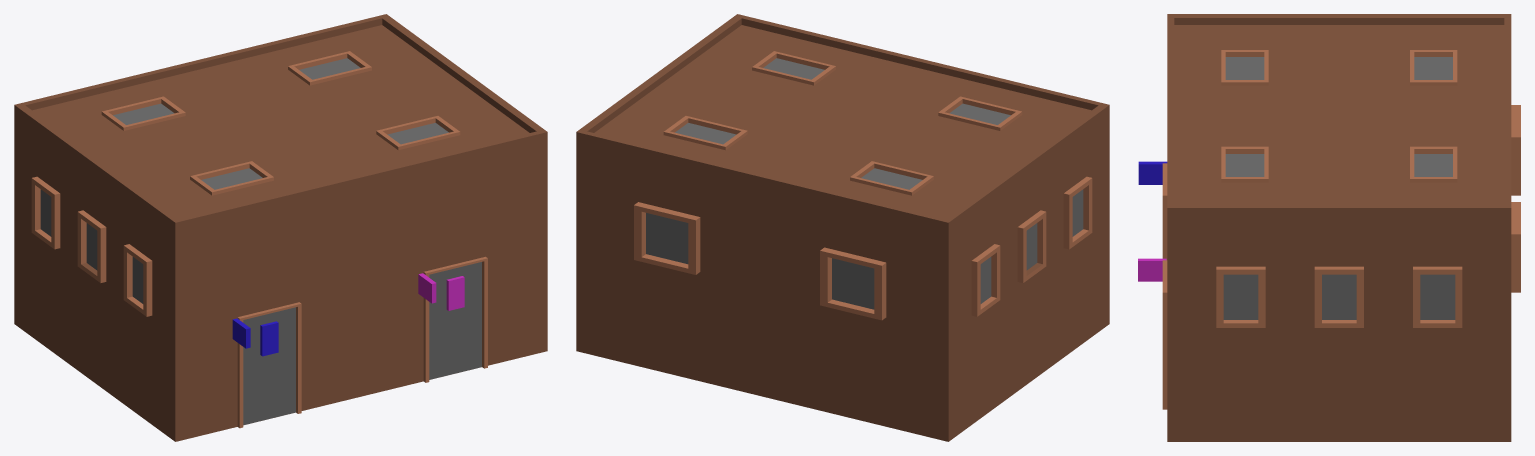
The model's file is ToiletTest.fbx.
The picture shows the model from 3 angles, left to right: view 1: azimuth 30°, elevation 25°; view 2: azimuth 150°, elevation 25°; view 3: azimuth 270°, elevation 25°; orthographic projection. The views are drawn at different scales.
Parts seen in each view (by area): view 1: Cube; view 2: Cube; view 3: Cube, Cube.002, Cube.001.
Boxes of the visible parts, x1,y1,x2,y2 form: Cube: [14, 14, 547, 441]; Cube: [576, 14, 1109, 441]; Cube: [1162, 14, 1520, 441]; Cube.002: [1138, 258, 1166, 281]; Cube.001: [1138, 161, 1167, 184].
Bounding box in the file's own units: 825 × 450 × 667.
